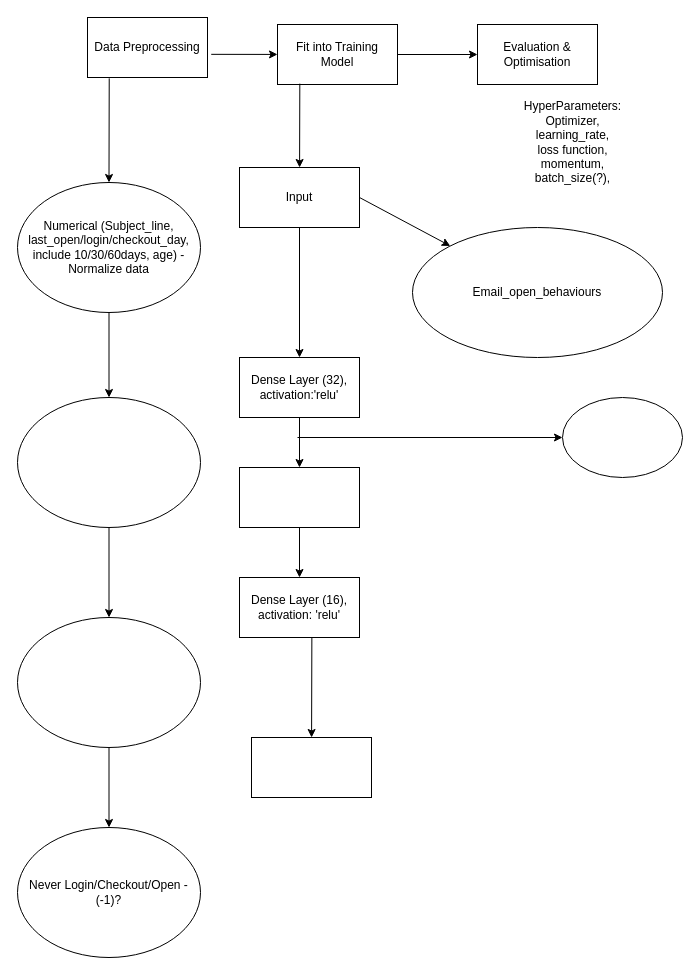
Some shapes in this 700 by 975 pixel diagram are drawn without their labels. The box of each missing label's shape, as (x1, y1, x2, y2) in pixels:
Categorical (attr_3, domain): (16, 396, 200, 528)
Concatenate: (238, 466, 360, 528)
Missing data (attr_1 - 2, attr_2 - 1, attr_3 - 5, age - mean?): (16, 616, 200, 748)
Output (1), activation: 'softmax': (250, 736, 372, 798)
User_attributes: (562, 396, 682, 478)
